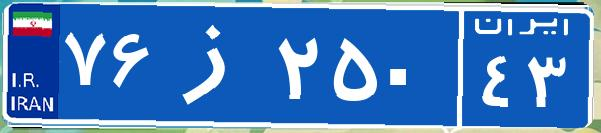0: (385, 28, 445, 110)
2: (273, 28, 330, 110)
3: (525, 38, 570, 115)
4: (475, 38, 525, 113)
5: (330, 28, 385, 110)
6: (110, 28, 158, 105)
7: (57, 26, 110, 107)
ز: (158, 15, 273, 115)
